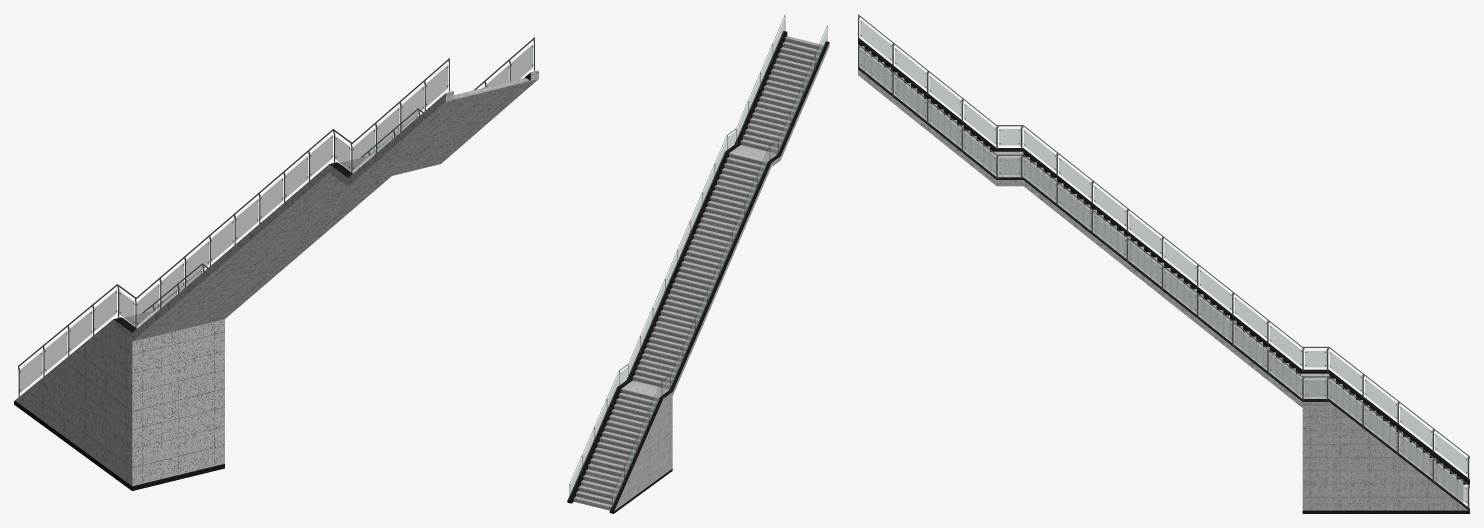
3 views of the same model, side by side, from view 1: azimuth 30°, elevation 25°; view 2: azimuth 150°, elevation 25°; view 3: azimuth 270°, elevation 25° (orthographic). The views are drawn at different scales.
Visible parts, largest first — view 1: 20M楼梯; view 2: 20M楼梯; view 3: 20M楼梯.
Part boxes in pixels (x1,y1,x2,y2): 20M楼梯: (14, 37, 538, 490); 20M楼梯: (567, 14, 829, 513); 20M楼梯: (858, 14, 1469, 513).
Bounding box in the file's own units: 3.1 × 21.13 × 24.97.
4 materials, 4 textured.
